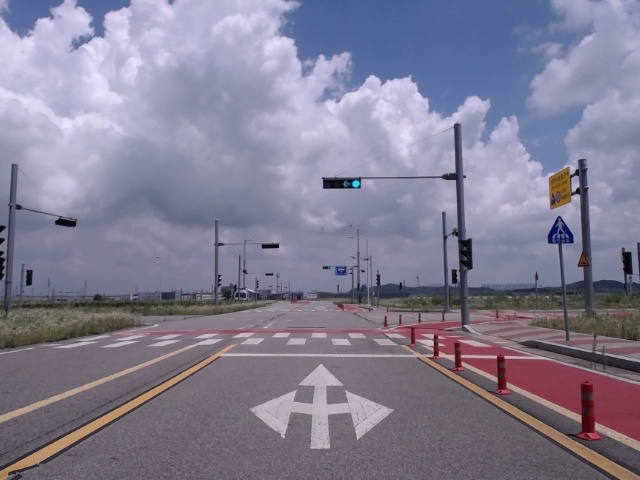all_green_4: (322, 176, 362, 187)
